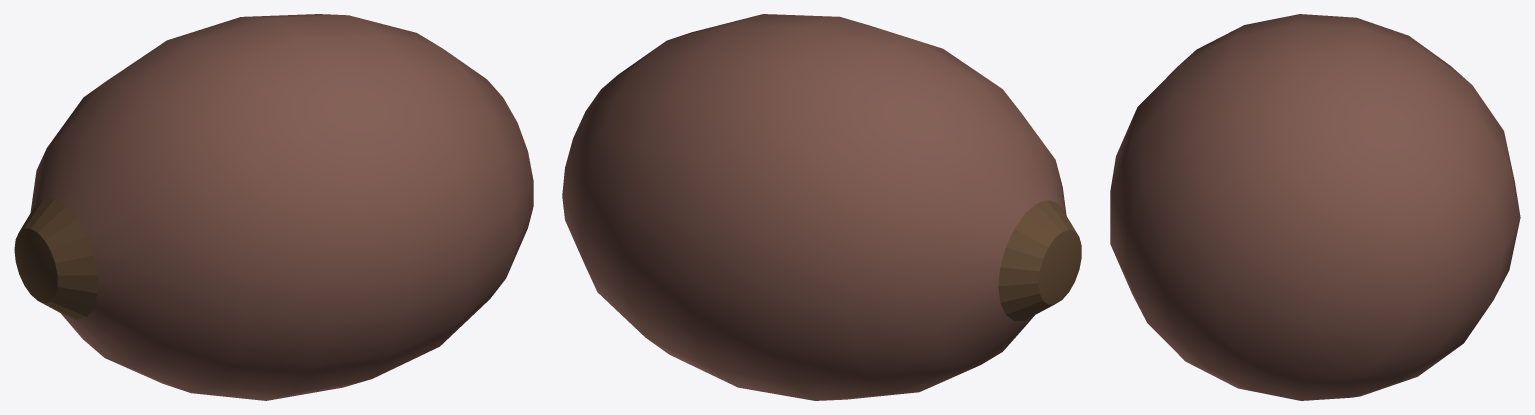
File: kiwi.fbx
The picture shows the model from 3 angles, left to right: view 1: azimuth 30°, elevation 25°; view 2: azimuth 150°, elevation 25°; view 3: azimuth 270°, elevation 25°; orthographic projection. The views are drawn at different scales.
Parts seen in each view (by area): view 1: Sphere001; view 2: Sphere001; view 3: Sphere001.
Boxes of the visible parts, x1=… form: Sphere001: x1=14, y1=14, x2=533, y2=400; Sphere001: x1=562, y1=14, x2=1081, y2=400; Sphere001: x1=1110, y1=14, x2=1520, y2=400.
Bounding box in the file's own units: 2849 × 1901 × 2187.
